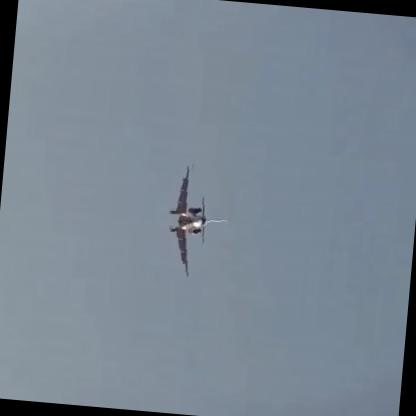plane: (160, 161, 236, 281)
